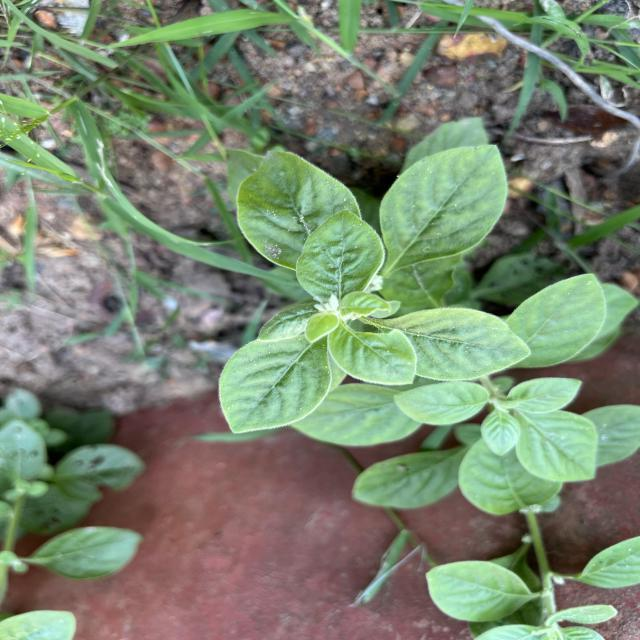Aerva lanata: (215, 331, 334, 436), (376, 304, 532, 384)
